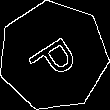P_NE: (22, 27, 85, 86)
